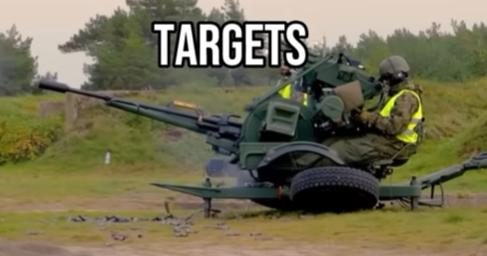MIL_SPG: (39, 53, 487, 214), (174, 22, 307, 66)
